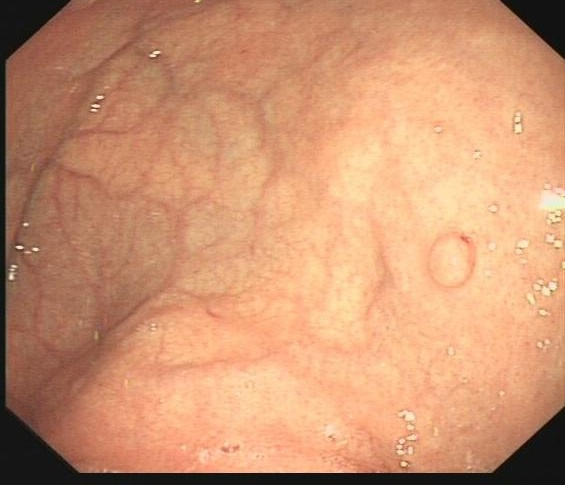Polyp: (424, 229, 476, 289)
